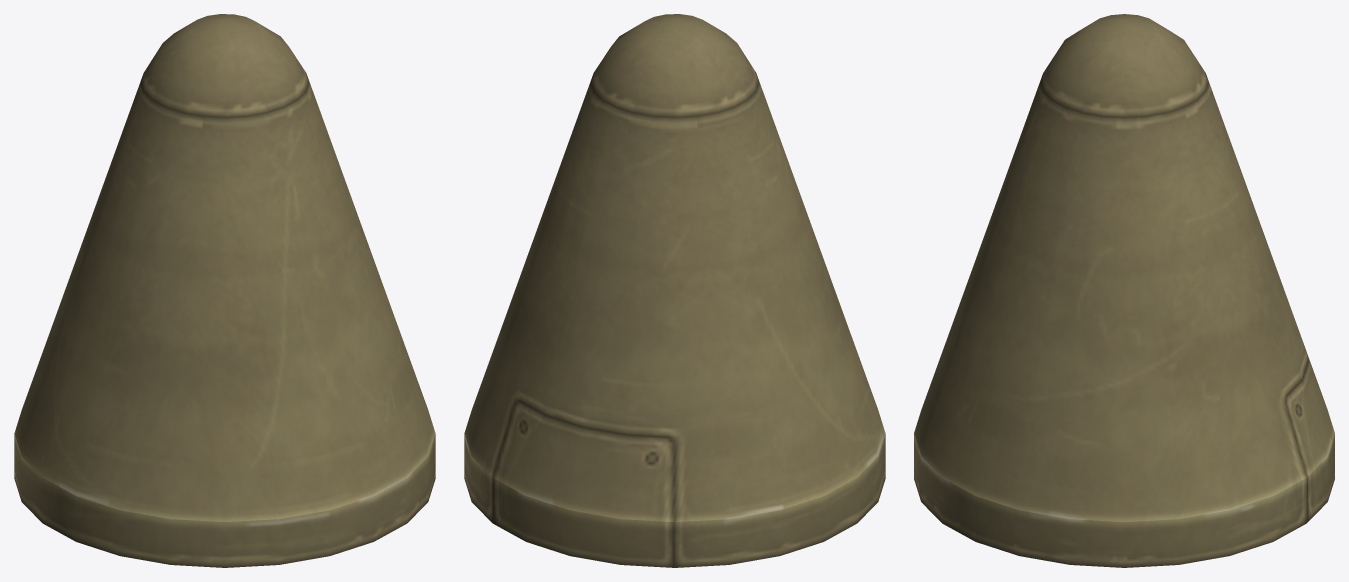
File: red_herald_probe_core_s0_1.obj
The picture shows the model from 3 angles, left to right: view 1: azimuth 30°, elevation 25°; view 2: azimuth 150°, elevation 25°; view 3: azimuth 270°, elevation 25°; orthographic projection.
Visible parts, largest first — view 1: mesh1; view 2: mesh1; view 3: mesh1.
Boxes of the visible parts, <box> form: mesh1: <box>14,14,435,567</box>; mesh1: <box>464,14,885,567</box>; mesh1: <box>914,14,1334,567</box>.
Size of the model in its own units: 0.625 by 0.75 by 0.625.
2 materials, 2 textured.
